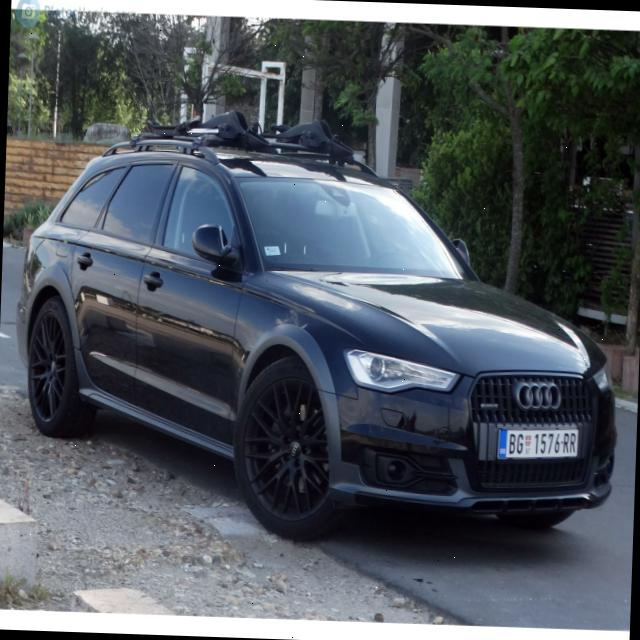License-plate: (492, 424, 582, 466)
